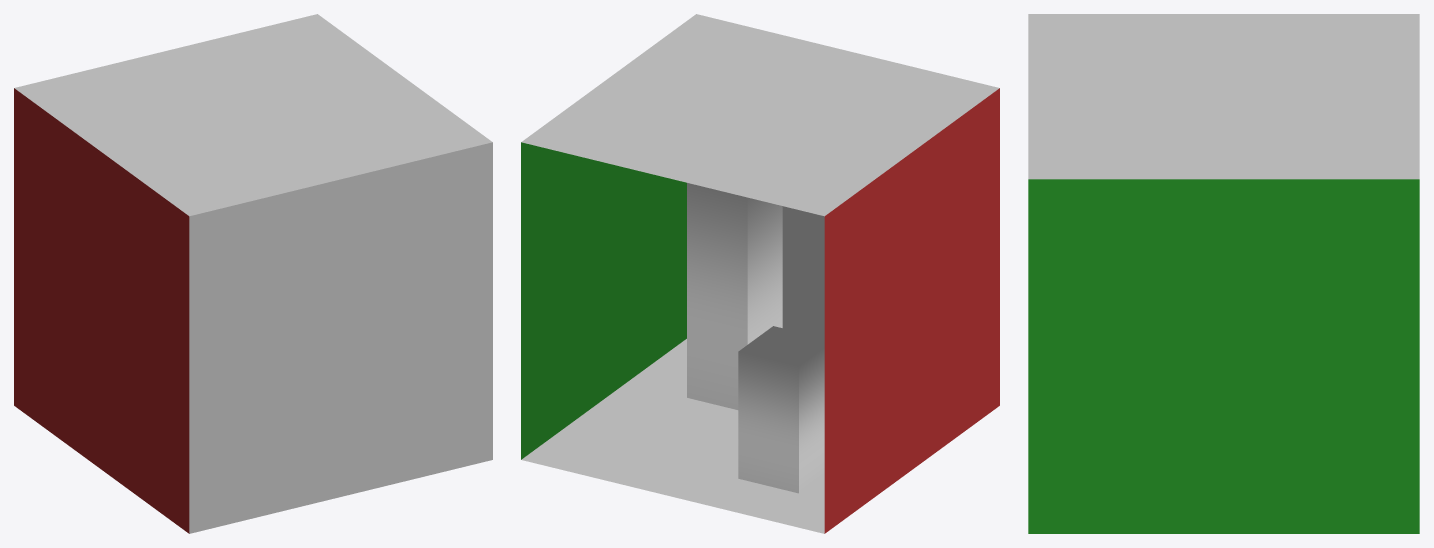
File: cornell.obj
The picture shows the model from 3 angles, left to right: view 1: azimuth 30°, elevation 25°; view 2: azimuth 150°, elevation 25°; view 3: azimuth 270°, elevation 25°; orthographic projection. The views are drawn at different scales.
Bounding box in the file's own units: 2 × 2 × 2.
